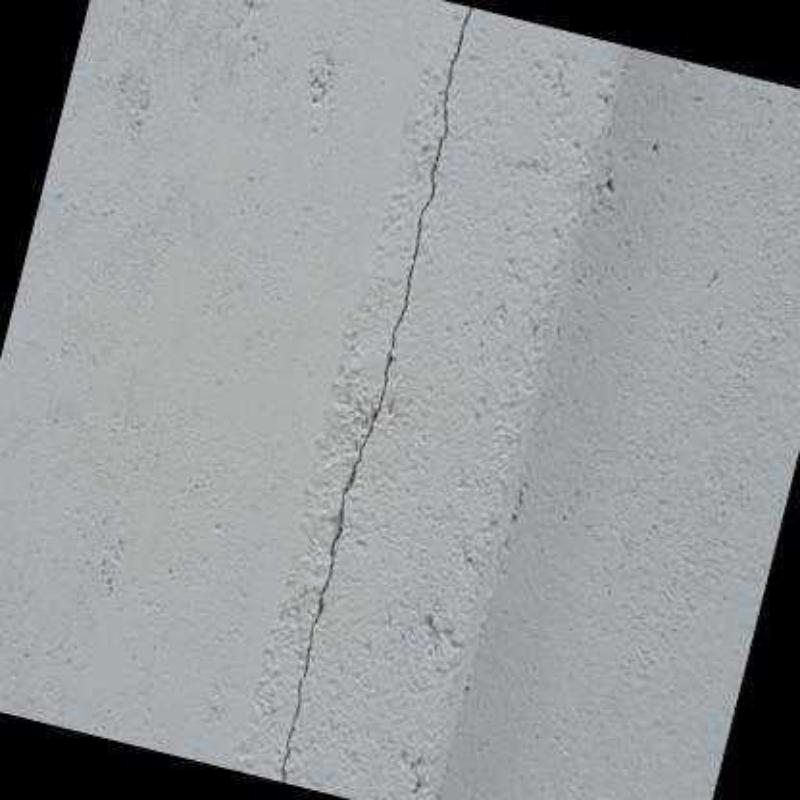crack: (274, 4, 478, 784)
